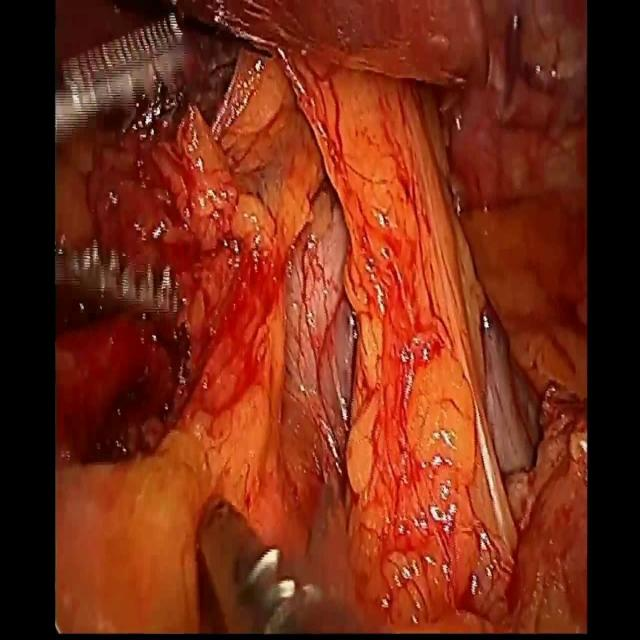surgical-area: (54, 0, 588, 634)
surgical-tool: (197, 489, 360, 634), (55, 13, 183, 140), (56, 240, 182, 316)
